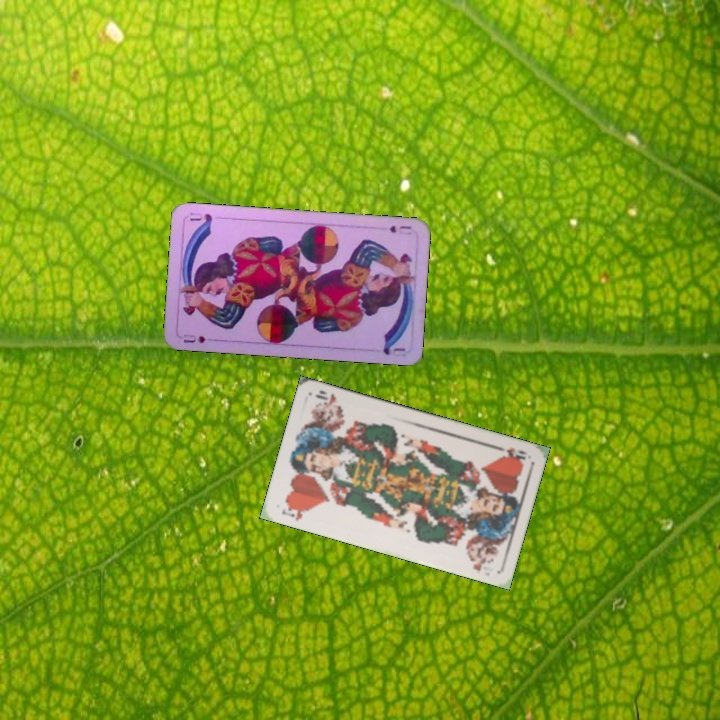HO: (491, 441, 529, 463), (278, 501, 311, 523)
SU: (179, 330, 208, 346), (385, 222, 414, 235)
